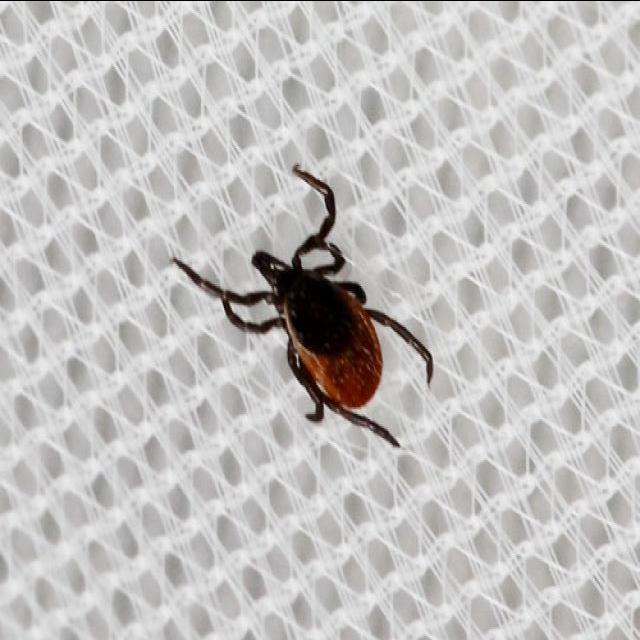Ixodes Ricinus-F: (193, 166, 434, 445)
